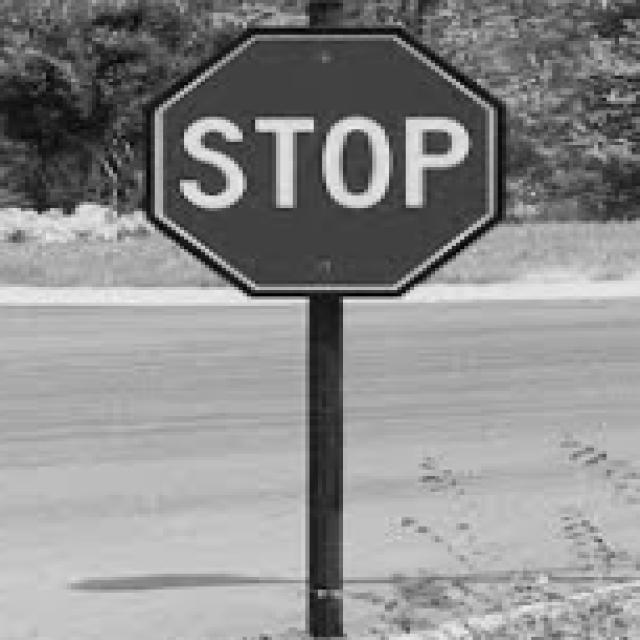Stop-signs: (142, 27, 507, 301)
